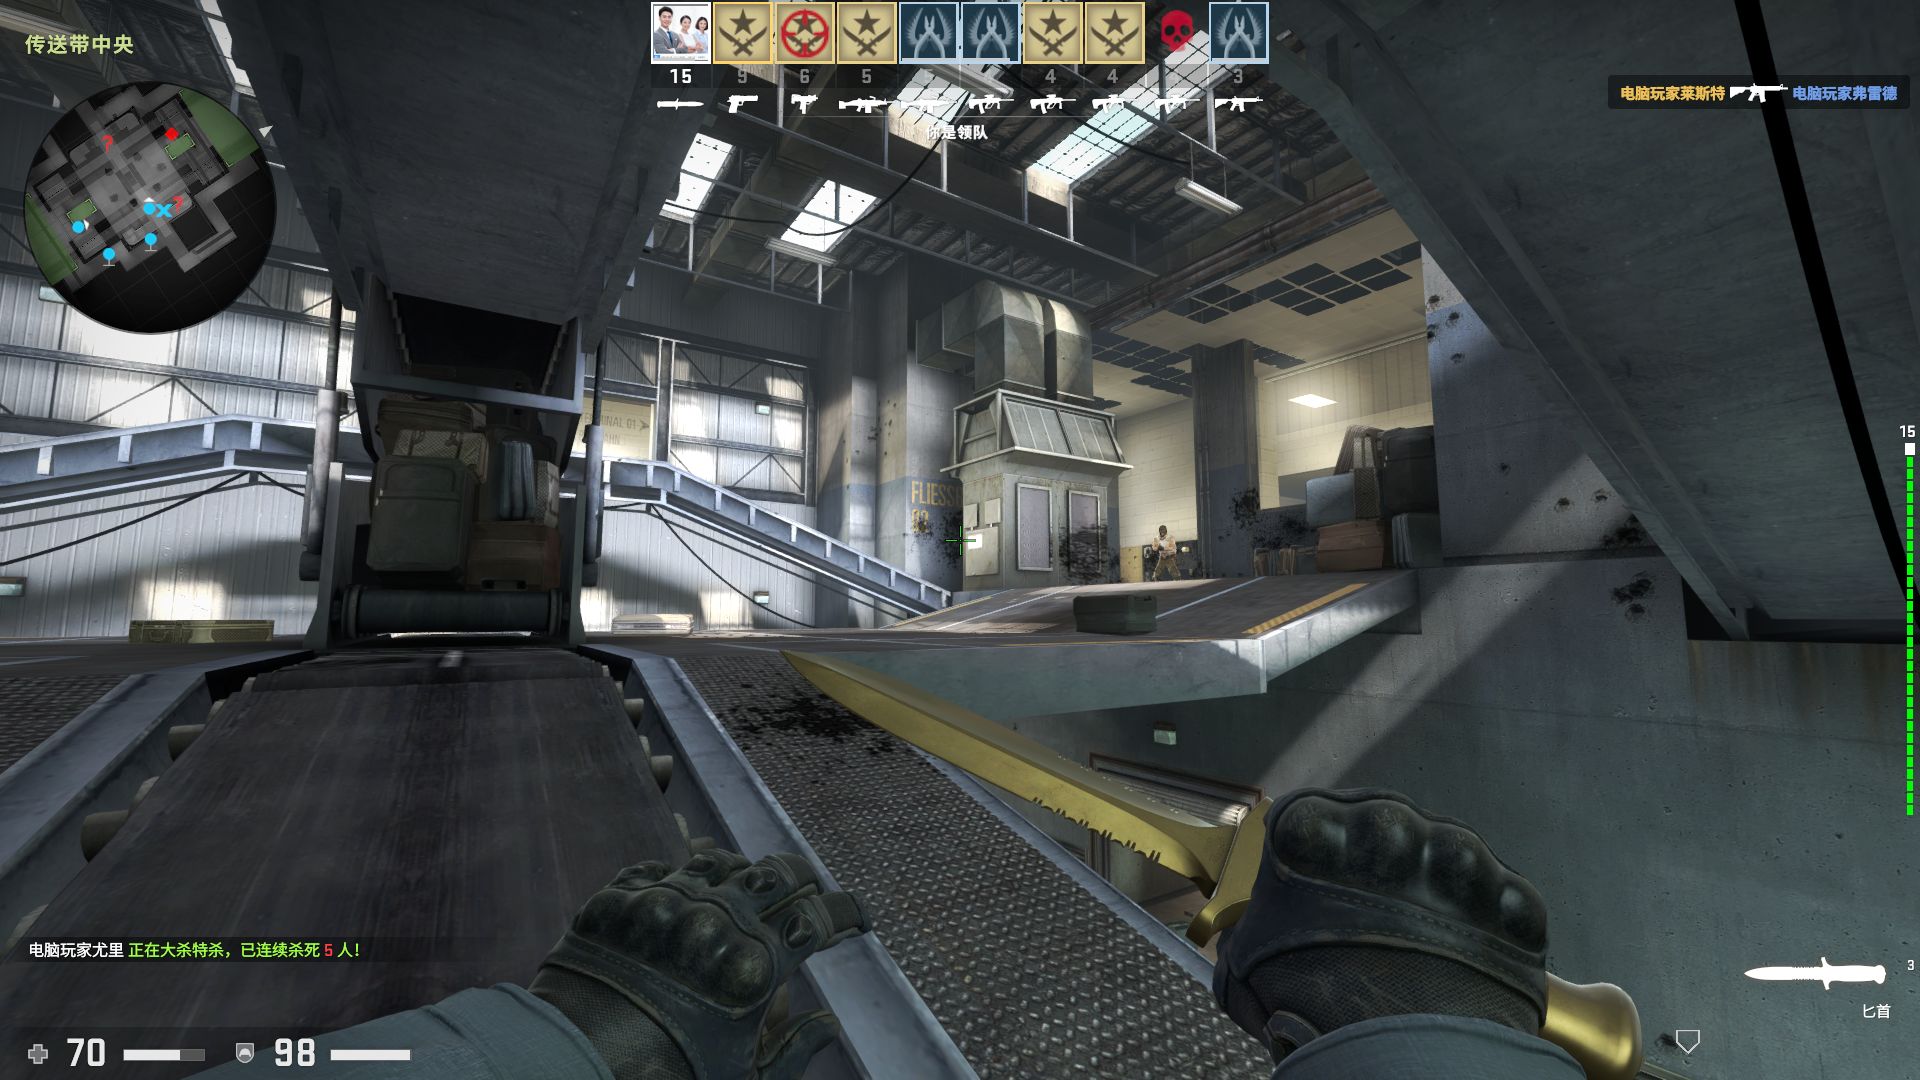person: (1146, 524, 1183, 587)
